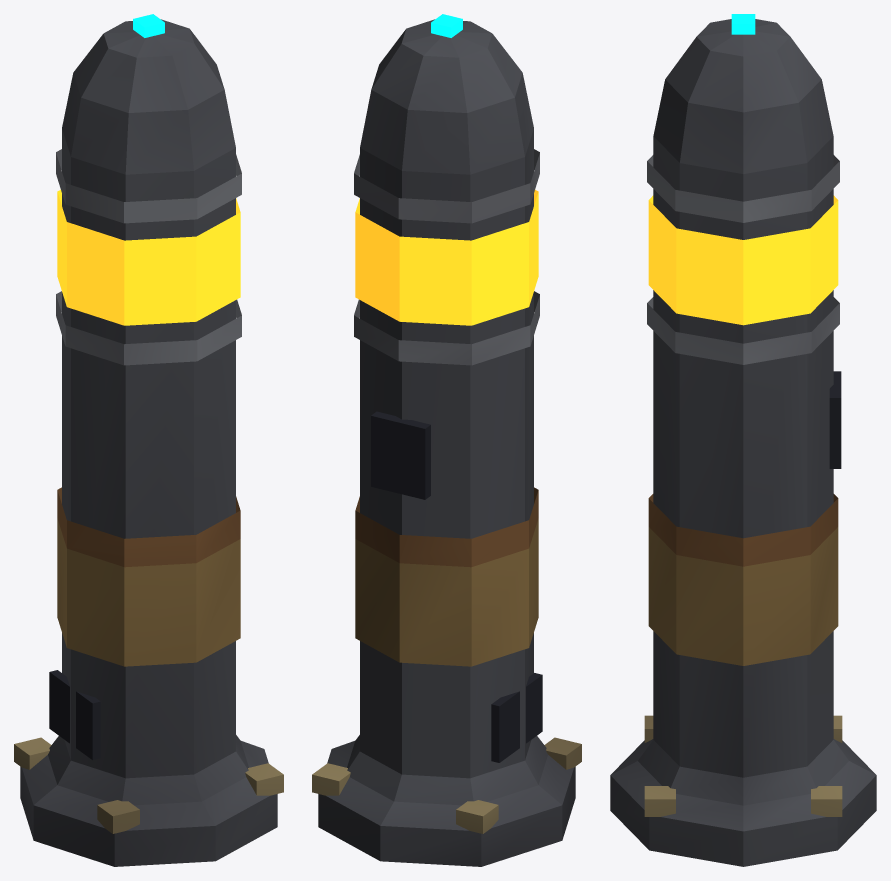
The model's file is bollard.glb.
3 renders of one model, left to right at view 1: azimuth 30°, elevation 25°; view 2: azimuth 150°, elevation 25°; view 3: azimuth 270°, elevation 25°, orthographic.
Visible parts, largest first — view 1: bollard; view 2: bollard; view 3: bollard.
Boxes of the visible parts, <box> form: bollard: <box>14,14,283,866</box>; bollard: <box>312,14,581,866</box>; bollard: <box>610,14,876,866</box>.
Bounding box in the file's own units: 0.34 × 1.12 × 0.34.
